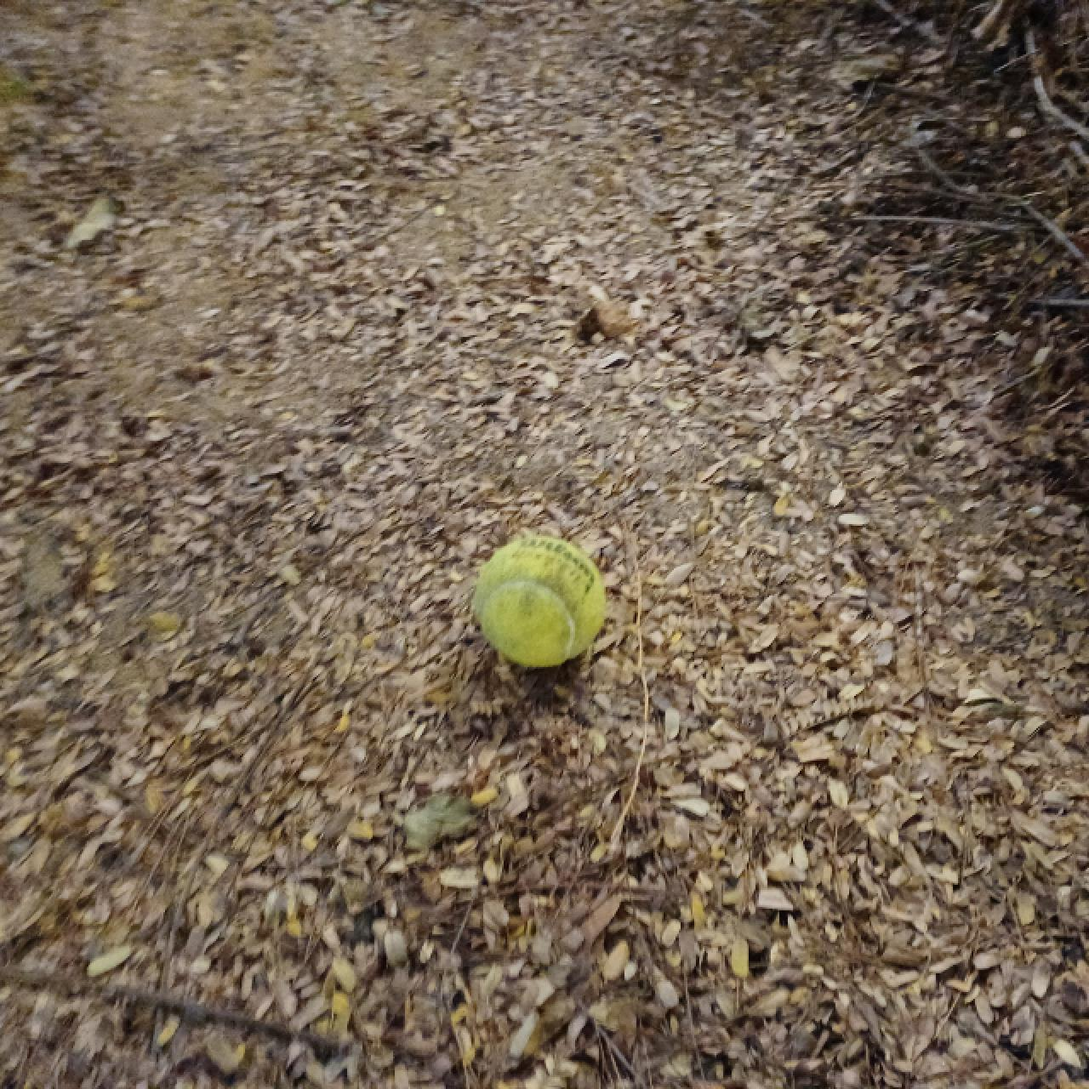tennis-ball: (473, 535, 606, 669)
